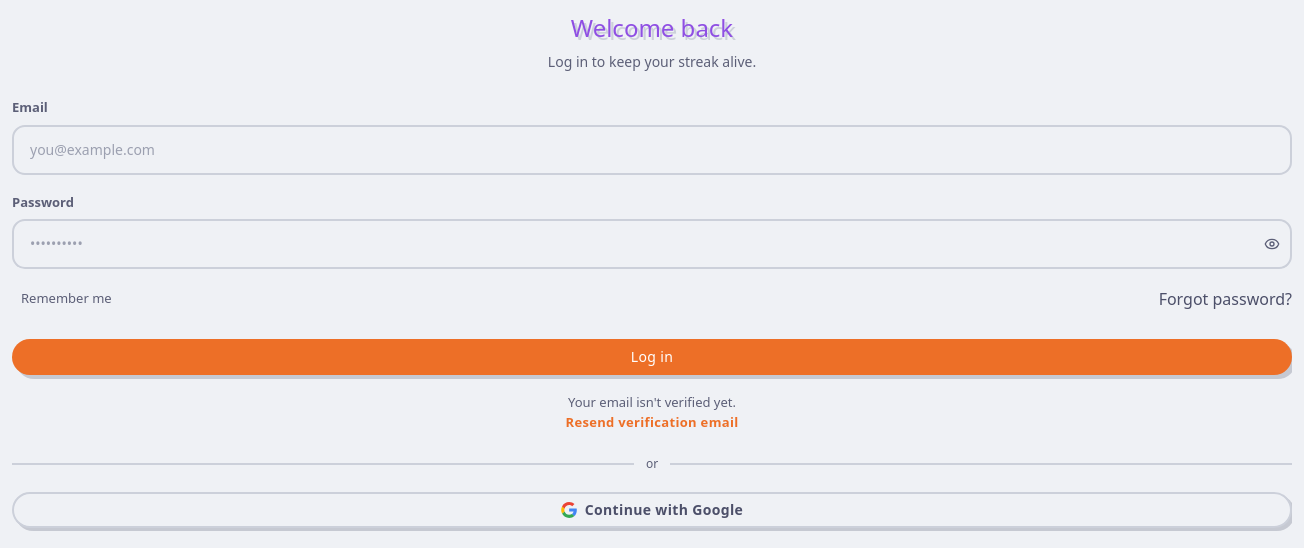
Test: LoginPage › hides the resend option again when the next login attempt starts
This screenshot has width=1304, height=548.
Type "player@example.com" into the field labelled "Email" at [652, 150], box [12,124,1292,174]
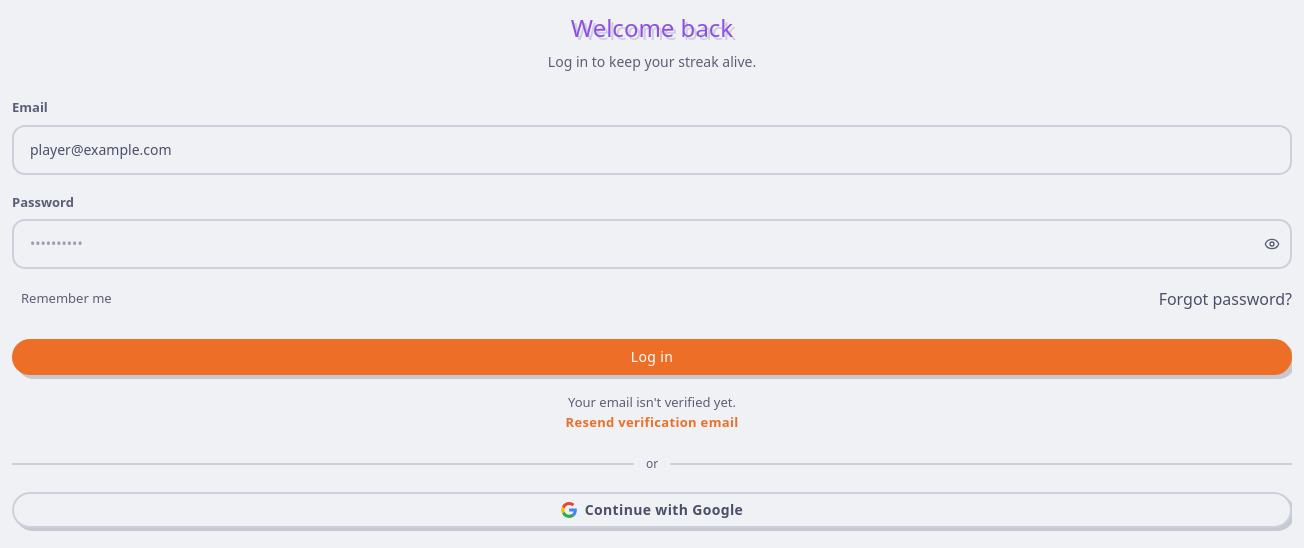
Type "CorrectHorseBatteryStaple1!" into the password field labelled "Password" at [652, 244], box [12,219,1292,269]
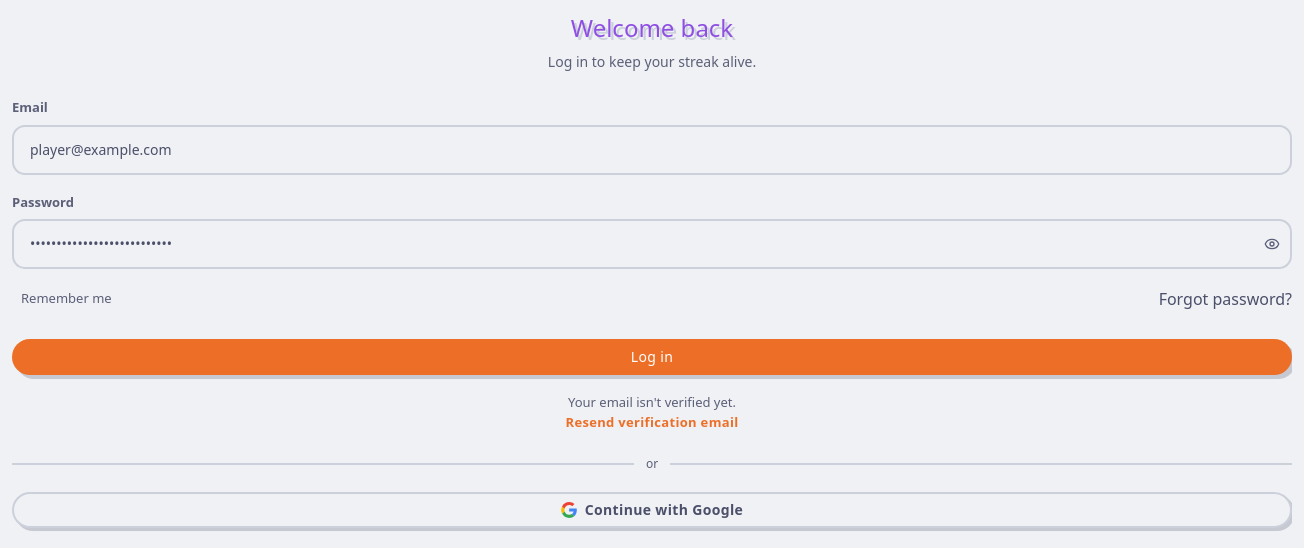
Click the button "Log in" at [652, 357], box [12,339,1292,375]
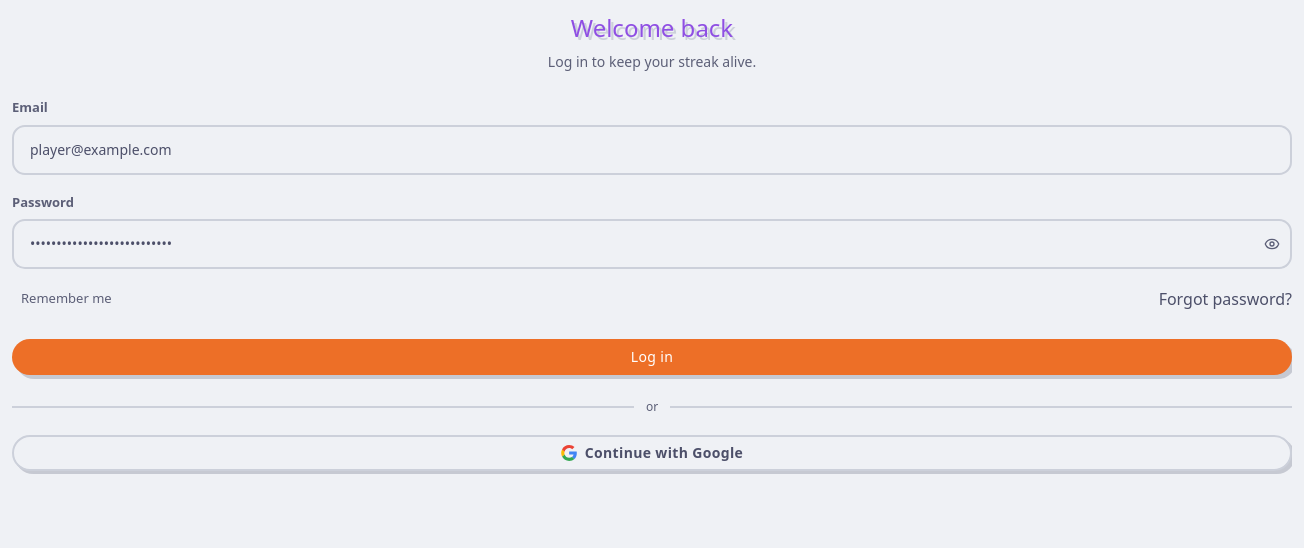
Expected: the button "Resend verification email" is gone
